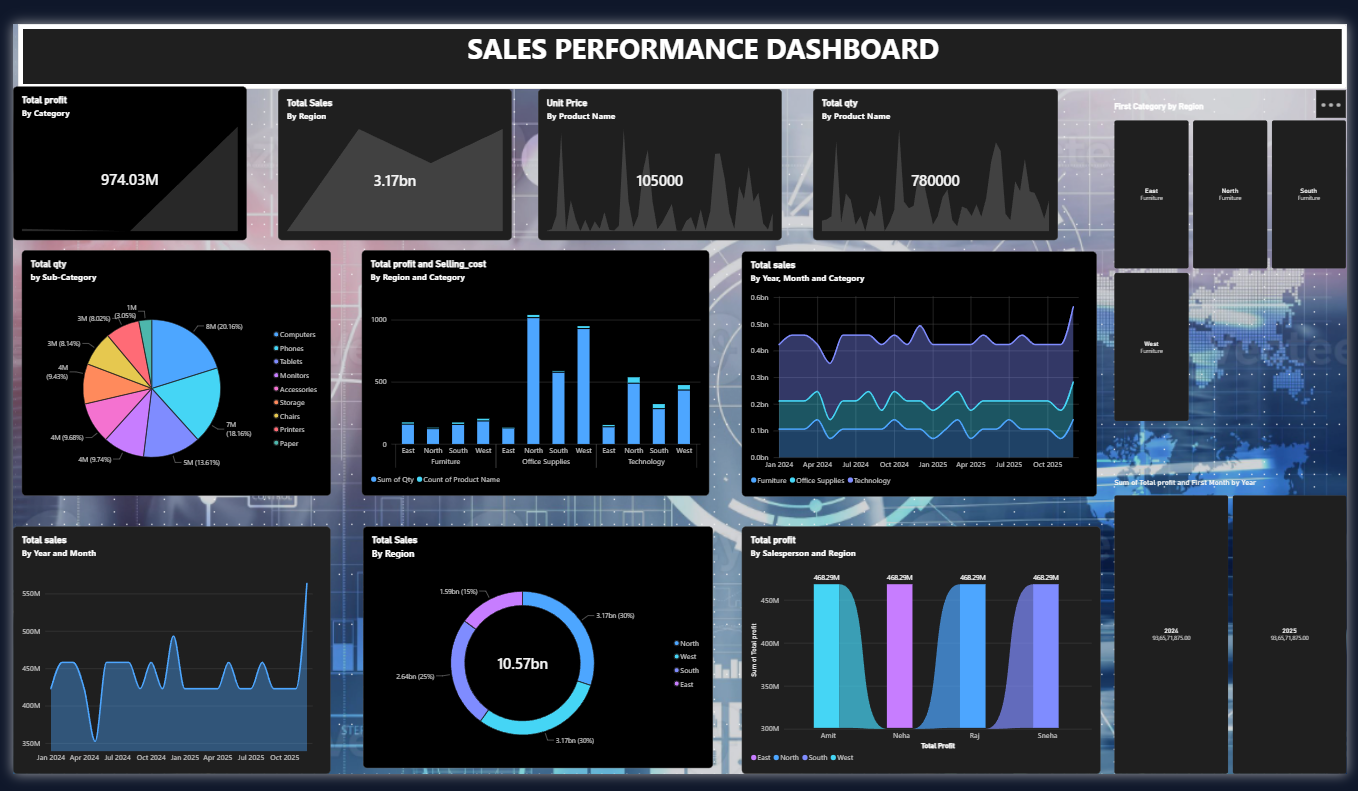

The dashboard page shown, as its layout file describes it:
{"tool":"powerbi","page":{"name":"Page 1","canvas":[2560,1440],"ordinal":0},"visuals":[{"type":"textbox","box":[9.6,0,2551.2,124.8],"z":0},{"type":"kpi","title":" Total profit","fields":{"Indicator":["Sum(Sheet2.Total profit)"],"TrendLine":["Sheet2.Category"]},"box":[0,120,427.2,295.2],"z":1000},{"type":"kpi","title":"Total Sales","fields":{"Indicator":["Sum(Sheet2.Total_sales)"],"TrendLine":["Sheet2.Region"]},"box":[508.8,124.8,448.8,290.4],"z":2000},{"type":"kpi","title":"Total qty","fields":{"Indicator":["Sum(Sheet2.Total qty)"],"TrendLine":["Sheet2.Product Name"]},"box":[1536,124.8,470.4,290.4],"z":3000},{"type":"kpi","title":"Unit Price","fields":{"Indicator":["Sum(Sheet2.Unit Price)"],"TrendLine":["Sheet2.Product Name"]},"box":[1008,124.8,468,290.4],"z":4000},{"type":"donutChart","title":"Total Sales","fields":{"Category":["Sheet2.Region"],"Y":["Sum(Sheet2.Total_sales)"]},"box":[672,964.5,672,464.4],"z":5000},{"type":"pieChart","title":" Total qty","fields":{"Category":["Sheet2.Sub-Category"],"Y":["Sum(Sheet2.Total qty)"]},"box":[15.6,435.3,593.9,471.1],"z":6000},{"type":"lineStackedColumnComboChart","title":"Total profit and  Selling_cost","fields":{"Category":["Sheet2.Category","Sheet2.Region"],"Y":["Sum(Sheet2.Qty)","CountNonNull(Sheet2.Product Name)"]},"box":[669.8,435.3,667.5,471.1],"z":7000},{"type":"areaChart","title":" Total sales","fields":{"Category":["Sheet2.Order Date.Variation.Date Hierarchy.Year","Sheet2.Order Date.Variation.Date Hierarchy.Month"],"Y":["Sum(Sheet2.Total_sales)"]},"box":[0,964.5,609.5,475.5],"z":8000},{"type":"ribbonChart","title":" Total profit","fields":{"Category":["Sheet2.Salesperson"],"Series":["Sheet2.Region"],"Y":["Sum(Sheet2.Total profit)"]},"box":[1399.2,964.8,688.8,475.2],"z":9000},{"type":"stackedAreaChart","title":" Total sales","fields":{"Category":["Sheet2.Order Date.Variation.Date Hierarchy.Year","Sheet2.Order Date.Variation.Date Hierarchy.Month"],"Series":["Sheet2.Category"],"Y":["Sum(Sheet2.Total_sales)"]},"box":[1399.2,436.8,681.6,470.4],"z":9001},{"type":"advancedSlicerVisual","fields":{"Label":["Min(Sheet2.Category)"],"Values":["Sheet2.Region"]},"box":[2114.4,148.8,446.4,523.2],"z":9002},{"type":"advancedSlicerVisual","fields":{"Label":["Sum(Sheet2.Total profit)"],"Values":["Sheet2.Order Date.Variation.Date Hierarchy.Year"]},"box":[2114.4,871.2,446.4,568.8],"z":9003}]}

Visuals, with their boxes in screenshot pixels (x1, y1, x2, y2):
textbox: x1=12 y1=21 x2=1347 y2=87
" Total profit" kpi: x1=7 y1=84 x2=231 y2=238
"Total Sales" kpi: x1=273 y1=87 x2=508 y2=238
"Total qty" kpi: x1=811 y1=87 x2=1057 y2=238
"Unit Price" kpi: x1=534 y1=87 x2=779 y2=238
"Total Sales" donutChart: x1=359 y1=526 x2=710 y2=769
" Total qty" pieChart: x1=15 y1=249 x2=326 y2=495
"Total profit and  Selling_cost" lineStackedColumnComboChart: x1=357 y1=249 x2=707 y2=495
" Total sales" areaChart: x1=7 y1=526 x2=326 y2=775
" Total profit" ribbonChart: x1=739 y1=526 x2=1099 y2=775
" Total sales" stackedAreaChart: x1=739 y1=250 x2=1096 y2=496
advancedSlicerVisual - Min(Sheet2.Category) x Sheet2.Region: x1=1113 y1=99 x2=1347 y2=373
advancedSlicerVisual - Sum(Sheet2.Total profit) x Sheet2.Order Date.Variation.Date Hierarchy.Year: x1=1113 y1=477 x2=1347 y2=775
